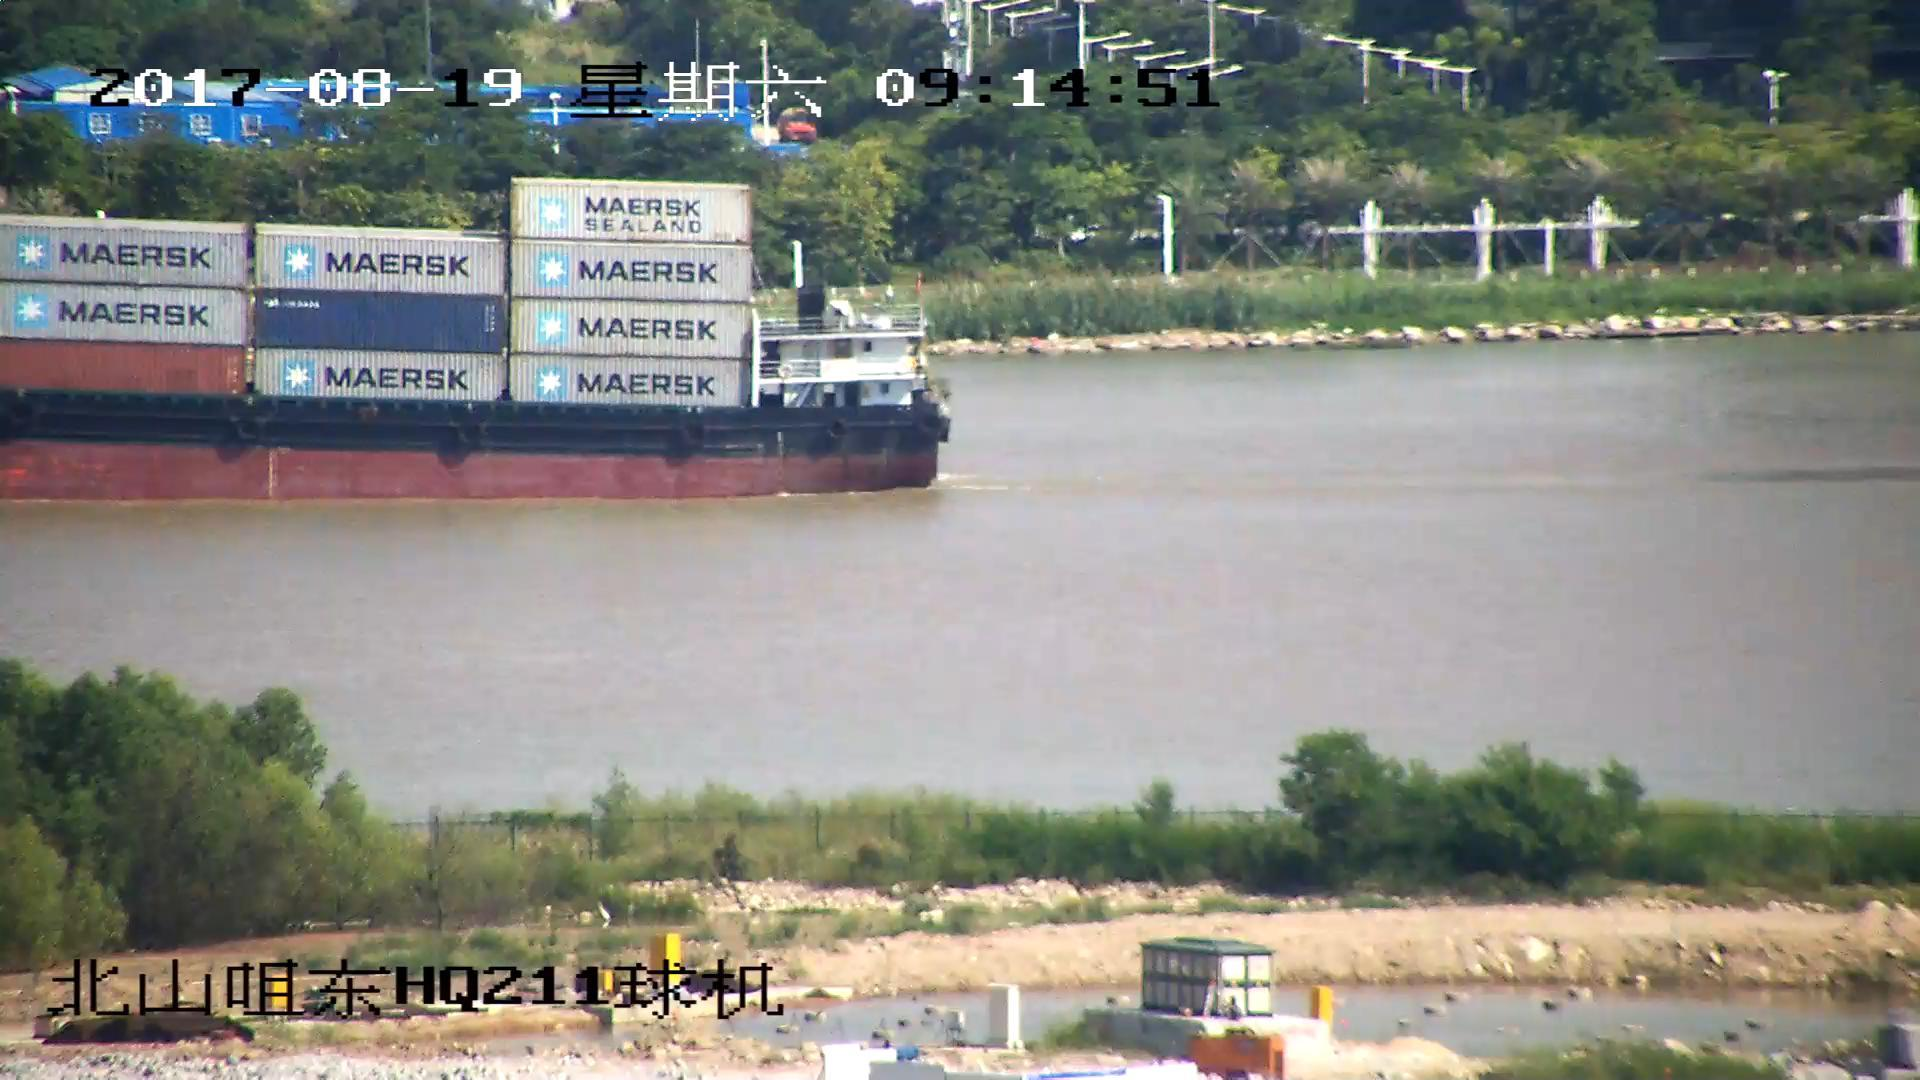Ship: (3, 173, 949, 500)
